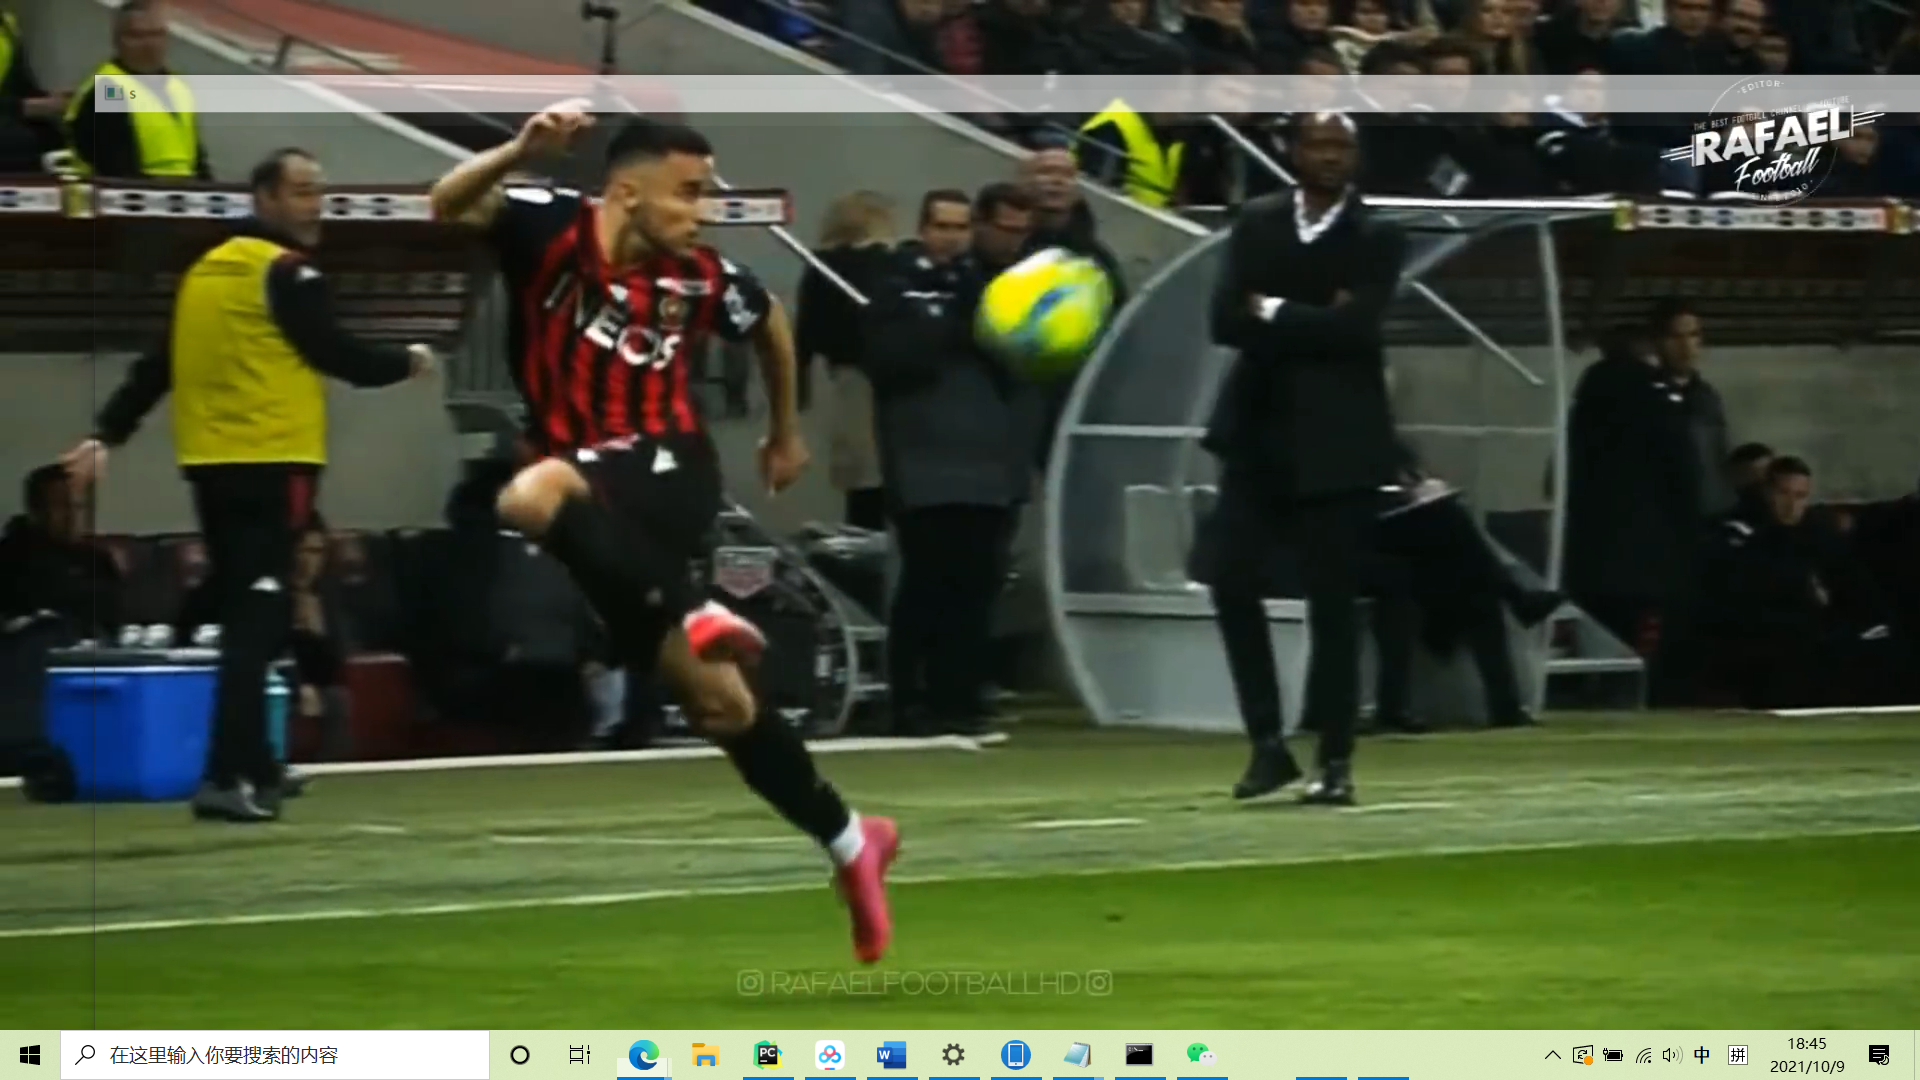ft: (972, 239, 1118, 373)
